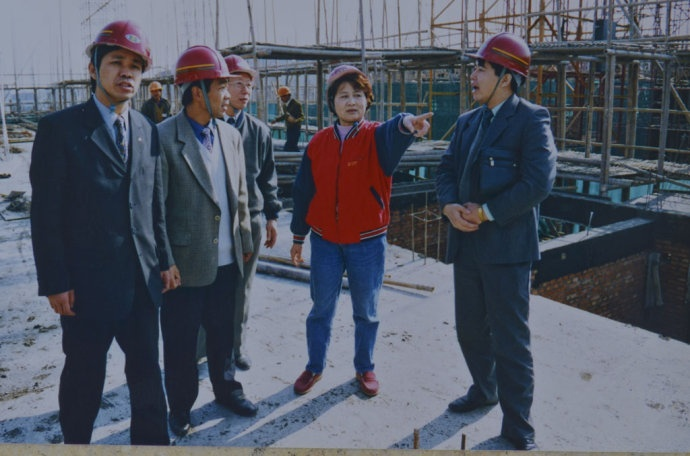red: (84, 18, 149, 101), (172, 45, 228, 115), (469, 35, 531, 98), (325, 63, 373, 124), (222, 54, 256, 109)
yellow: (277, 84, 291, 105), (147, 80, 162, 98)
